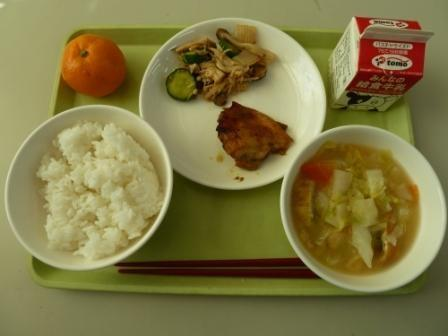Citrus: (54, 30, 124, 97)
Meat: (203, 99, 291, 170)
Milk: (326, 11, 437, 114)
Rice: (17, 122, 164, 265)
Salad: (159, 28, 277, 102)
Soups: (286, 134, 435, 286)
